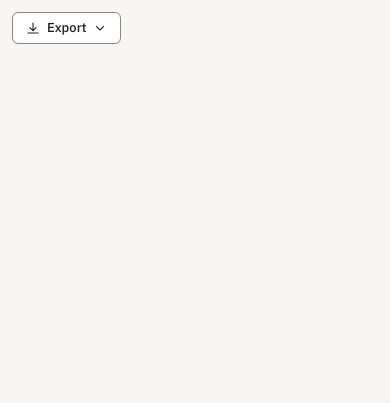
Test: the export menu › says what an export of events carries, and asks for the brief form by name
Click the button "Export": [67, 28] box x1=12 y1=12 x2=121 y2=44
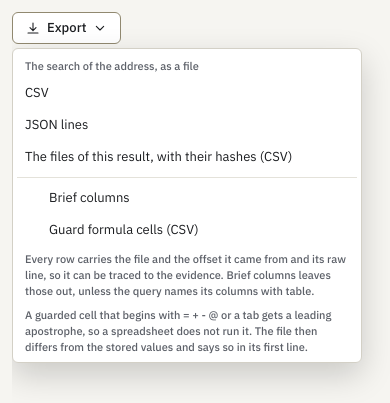
Check: the text "Every row carries the file and the offset it came from and its raw line" is shown, box x1=25 y1=252 x2=346 y2=298
Click the menu item "Brief columns": [89, 197] box x1=49 y1=188 x2=130 y2=206
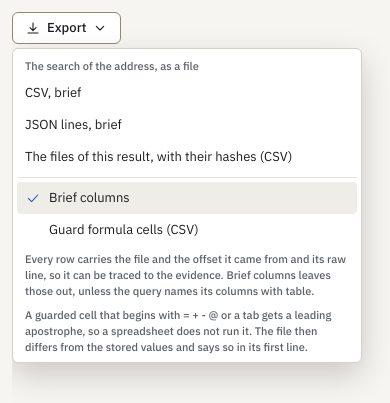
Click the menu item "CSV, brief": [53, 92] box x1=25 y1=84 x2=81 y2=100
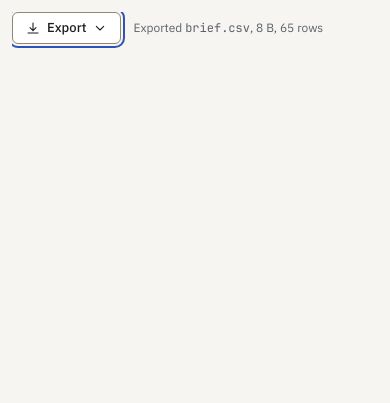
Check: the text "Exported brief.csv, 8 B, 65 rows" is shown, box x1=133 y1=19 x2=323 y2=37
